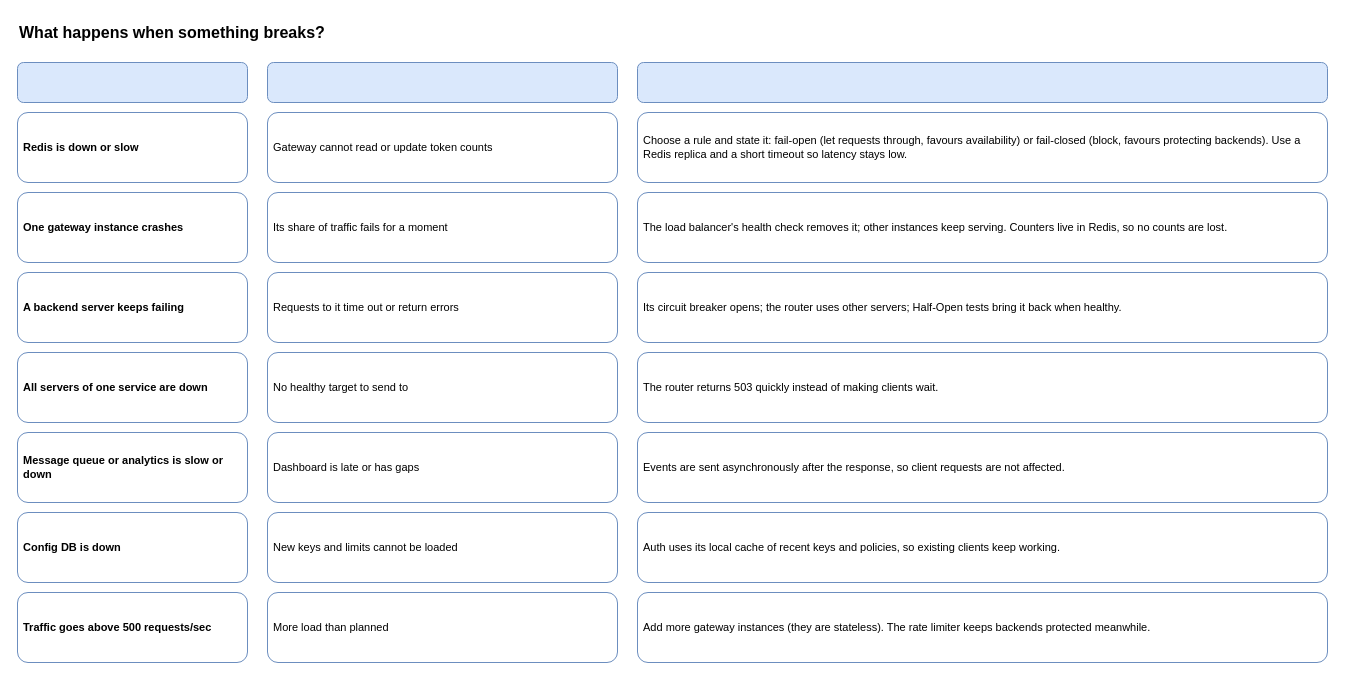
Some shapes in this 1345 by 680 pixel diagram are drawn without their labels. The shapes that lost their labels are listed below. From the top down, each one's box as (x1, y1, x2, y2) in pixels, then its label:
(16, 62, 248, 102): Scenario
(266, 62, 618, 102): What the system sees
(636, 62, 1328, 102): How the design handles it
